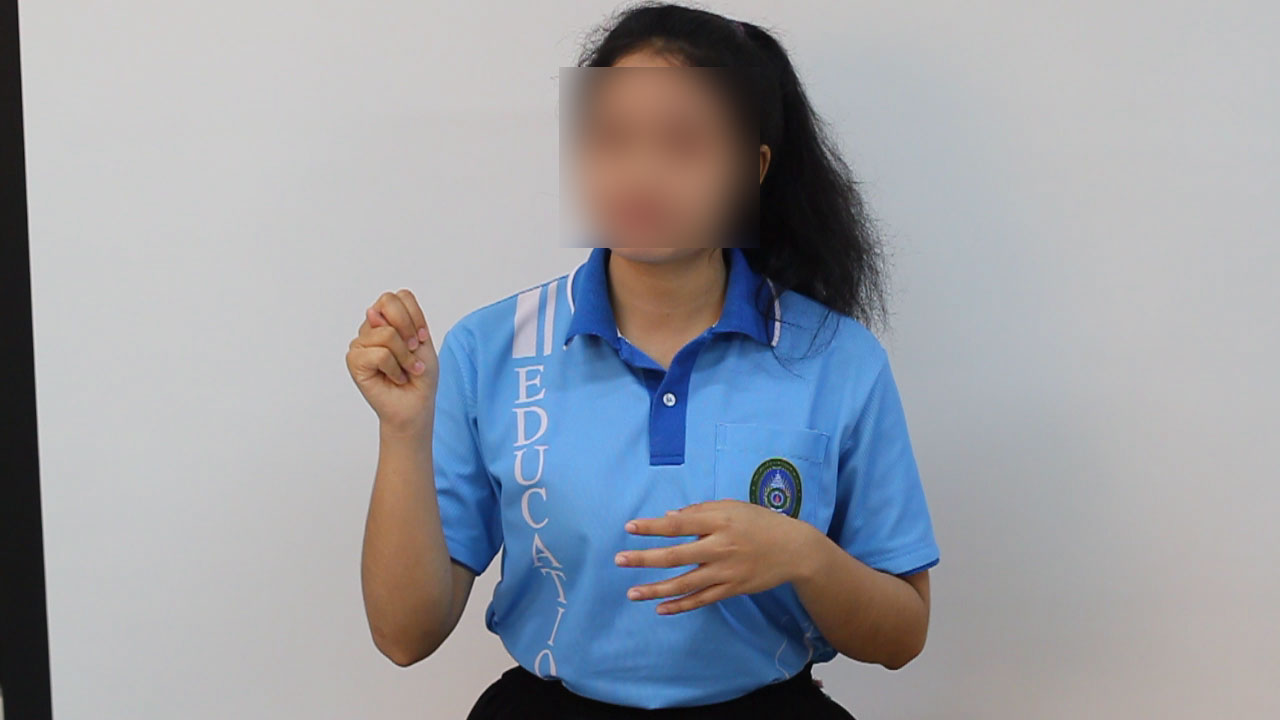nor: (340, 275, 445, 434)
